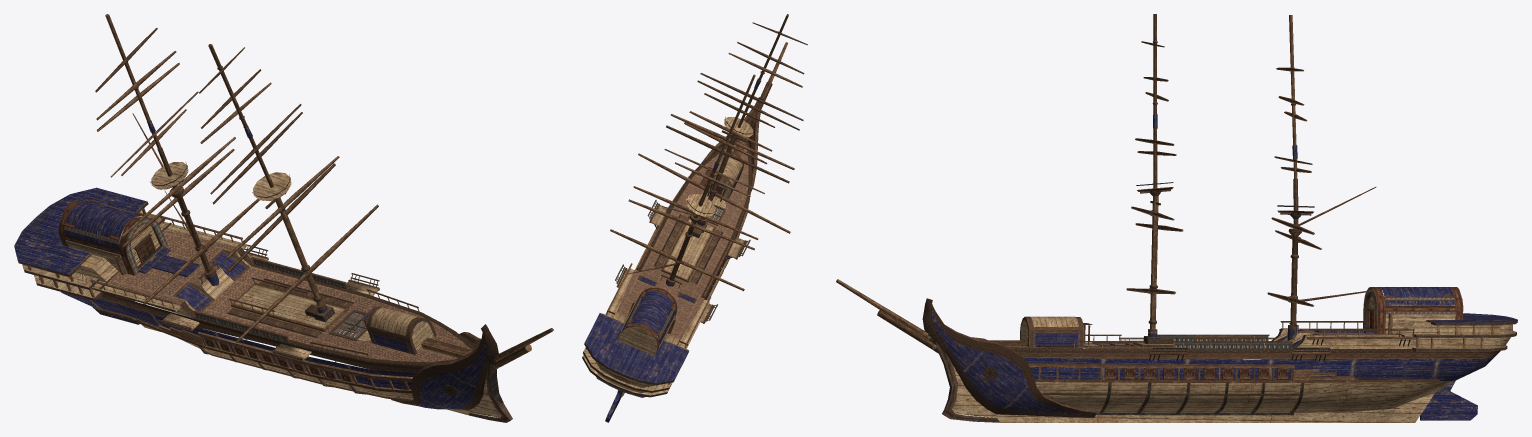
Rendered from o_mdl_env_propLargeShipBrokenA_c_2-transformed.glb.
3 views of the same model, side by side, from view 1: azimuth 30°, elevation 25°; view 2: azimuth 150°, elevation 25°; view 3: azimuth 270°, elevation 25° (orthographic). The views are drawn at different scales.
Visible parts, largest first — view 1: default; view 2: default; view 3: default.
Boxes of the visible parts, x1,y1,x2,y2 form: default: (14,14,553,422); default: (582,14,807,422); default: (836,14,1517,422).
Bounding box in the file's own units: 42.49 × 69.33 × 113.
Materials: 7 (7 with a texture image).
